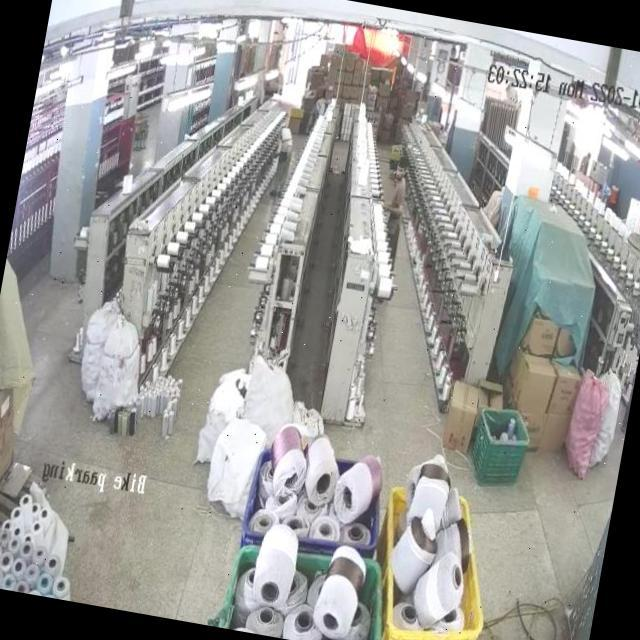person: (378, 154, 410, 242), (272, 120, 296, 194)
